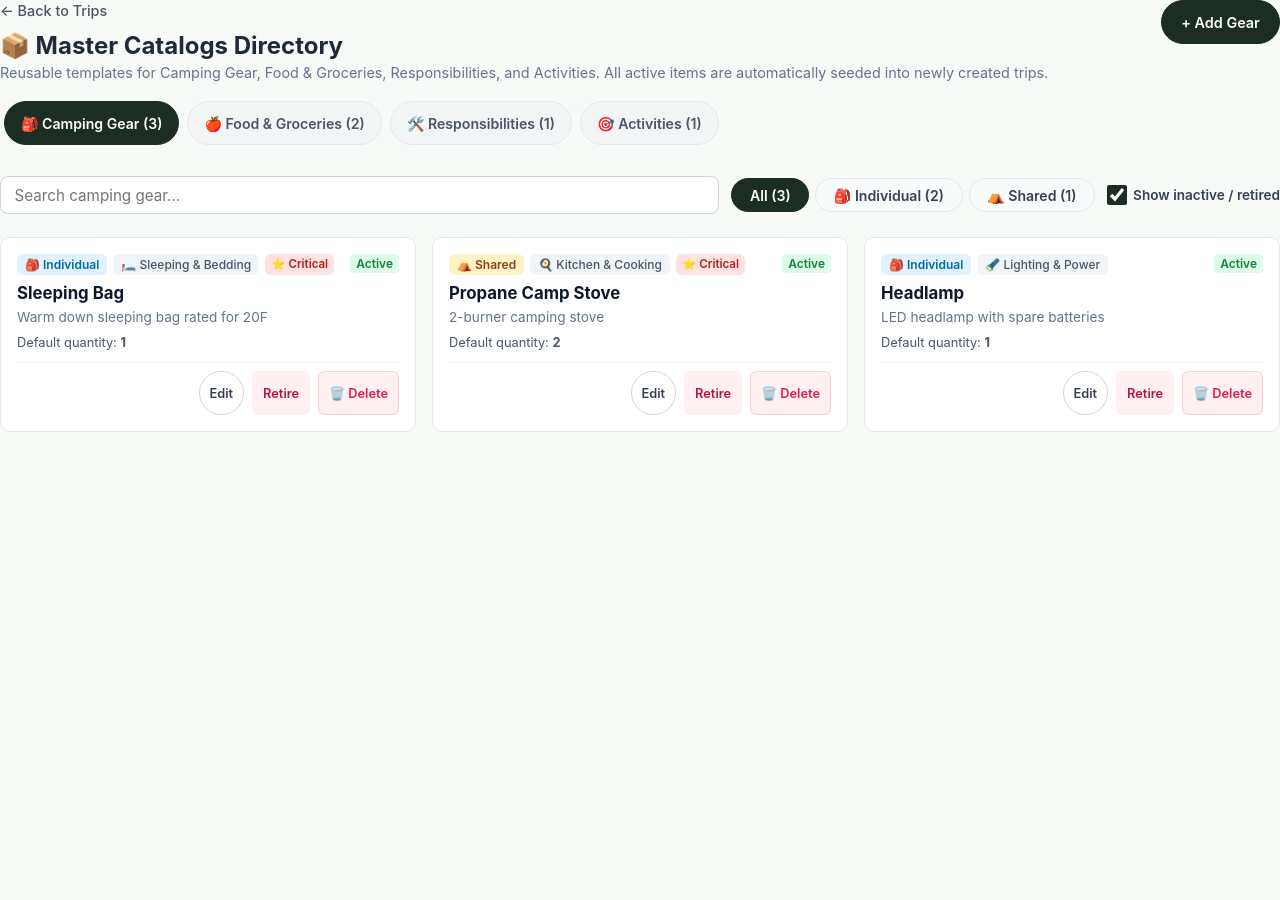
MasterCatalogPage › allows adding a new master gear item via modal
The width and height of the screenshot is (1280, 900).
Expected: the heading "Sleeping Bag" is shown, [17,283,124,303]
Click the button "+ Add Gear" at (1221, 22), box [1161,0,1279,44]
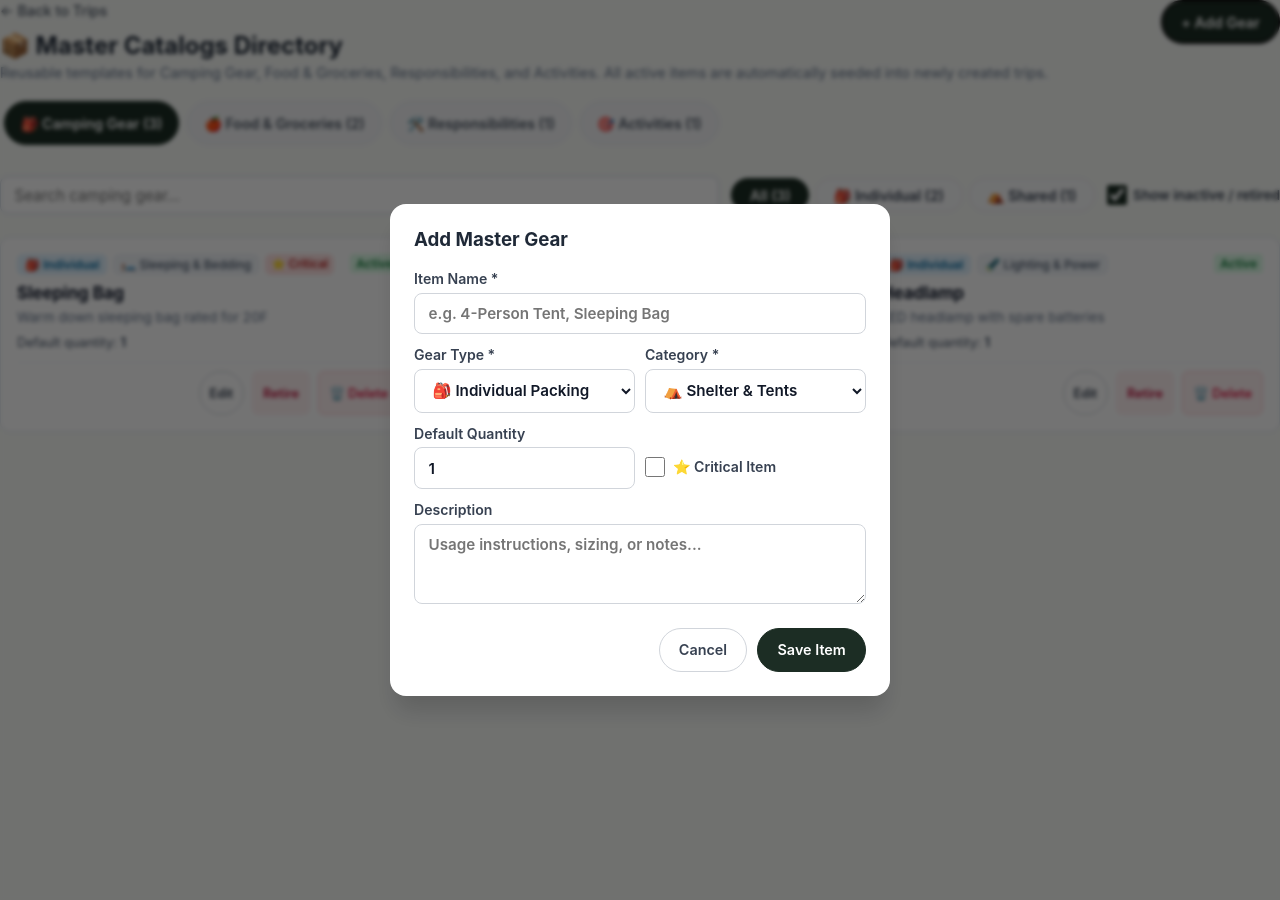
Result: the dialog "Add Master Gear" is shown at [390,204,890,696]
Type "Water Filter" into the field labelled "Item Name *" at (640, 314), box [414,293,866,334]
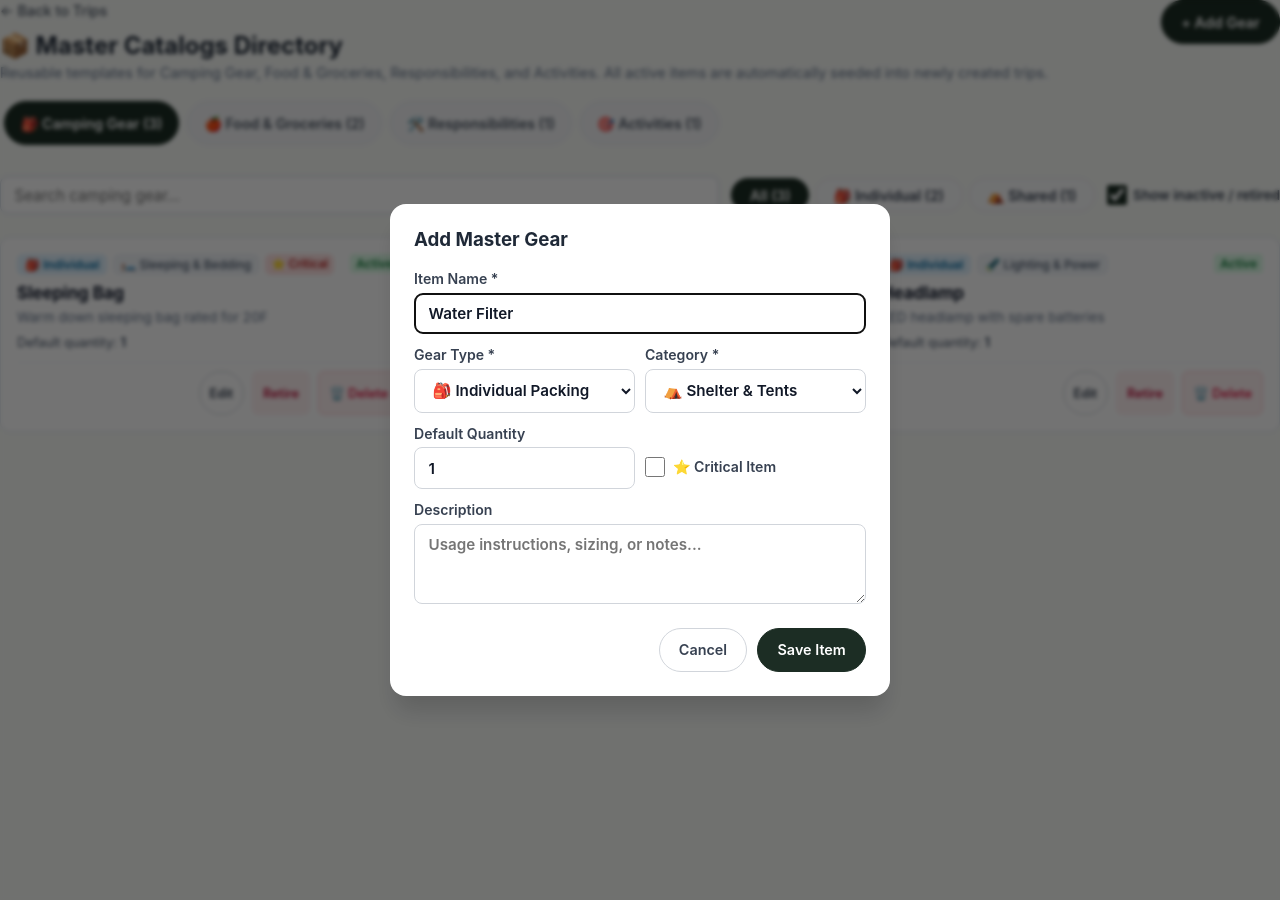
Select "⛺ Shared Community Gear" in the dropdown labelled "Gear Type *" at (524, 391), box [414,369,635,413]
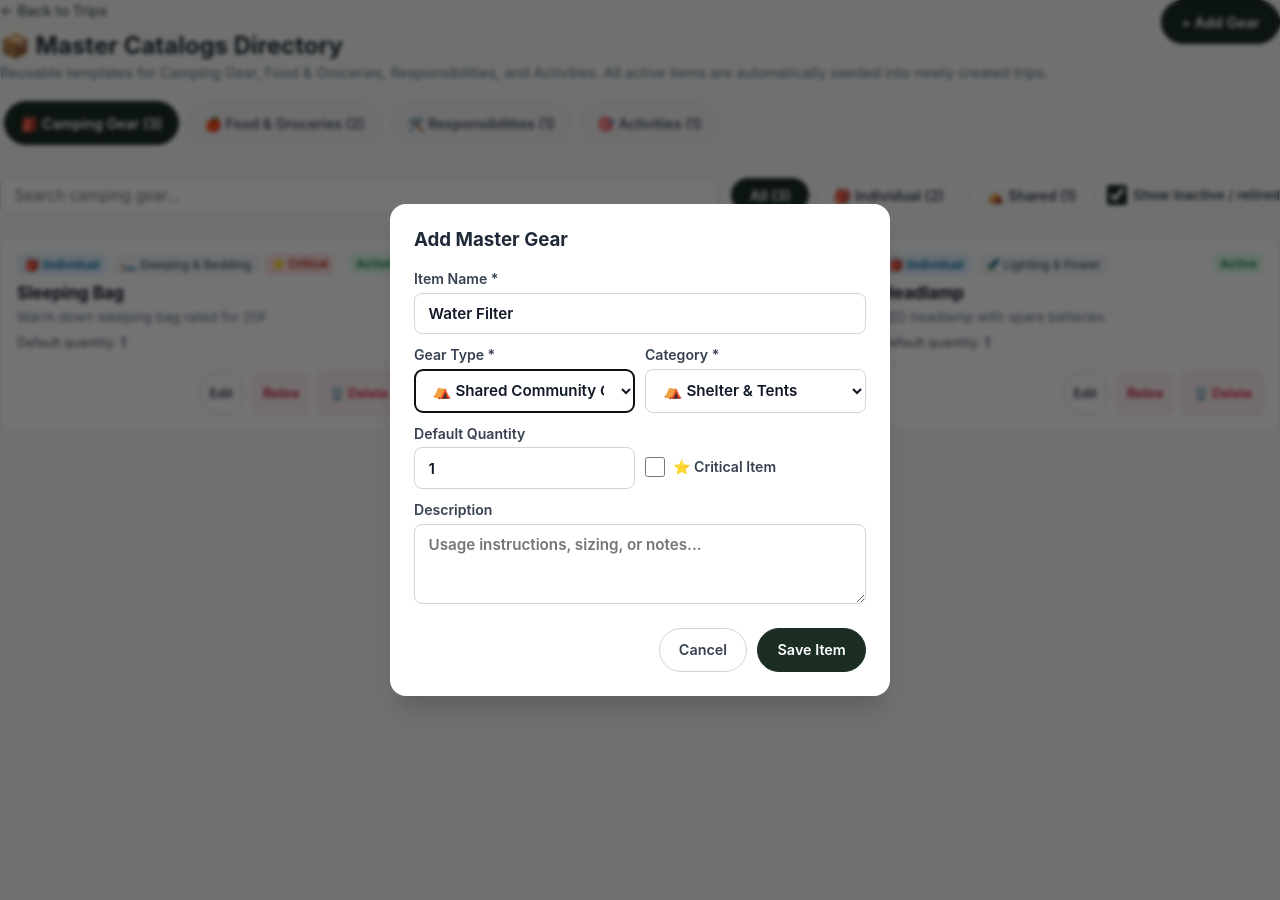
Select "🩹 Safety & First Aid" in the dropdown labelled "Category *" at (756, 391), box [645,369,866,413]
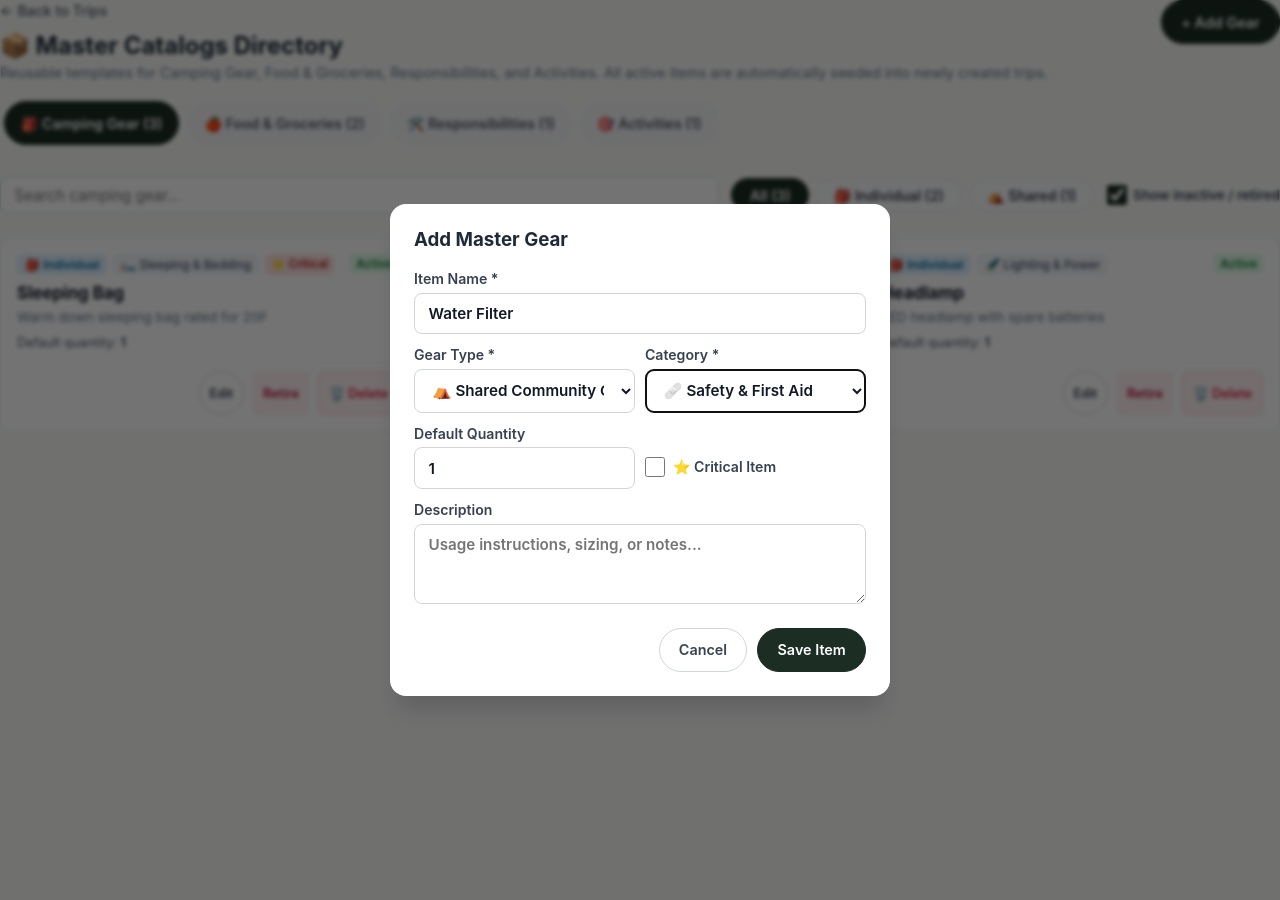
Click the button "Save Item" at (812, 650), box [757,628,866,672]
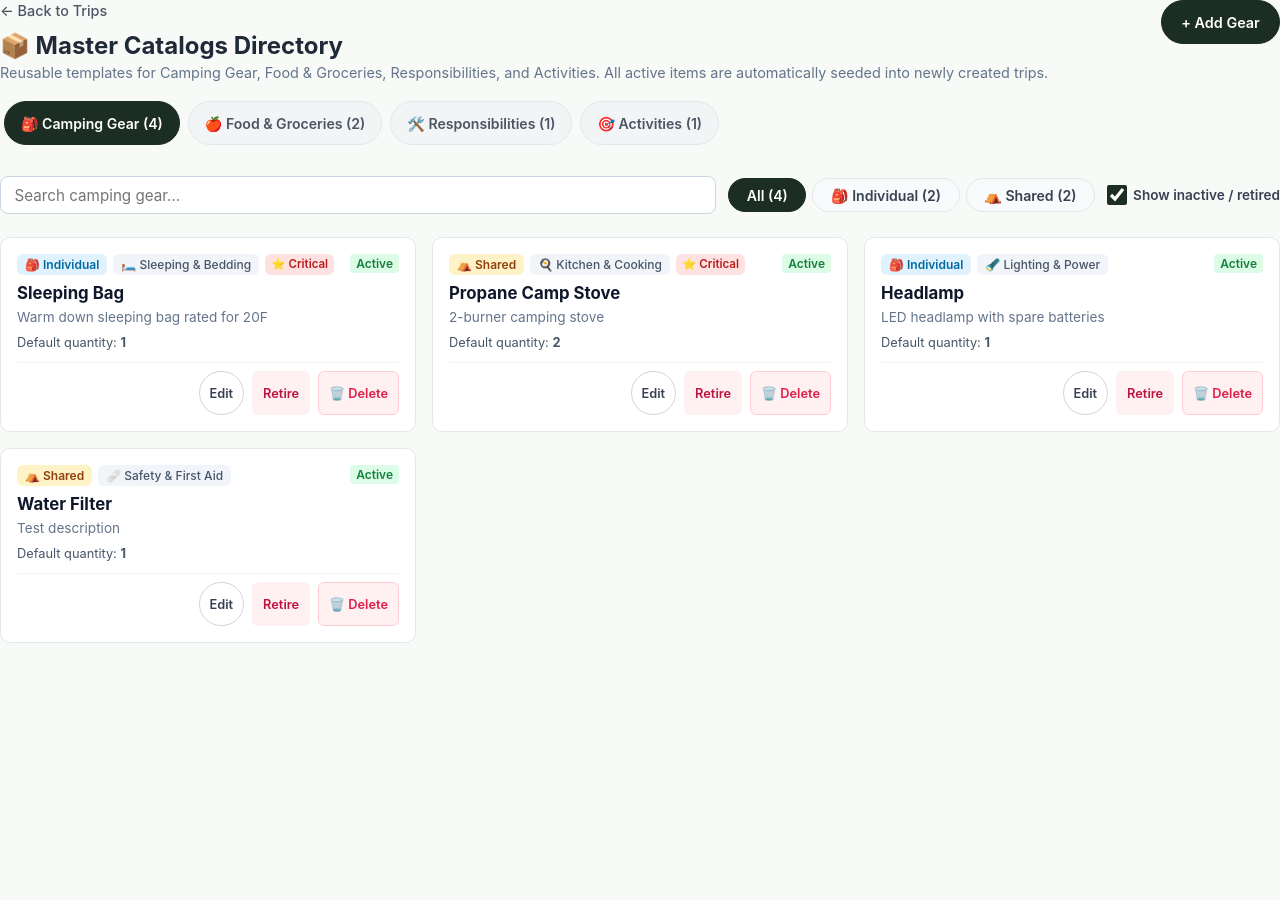
Result: the heading "Water Filter" is shown at [17,494,112,514]
